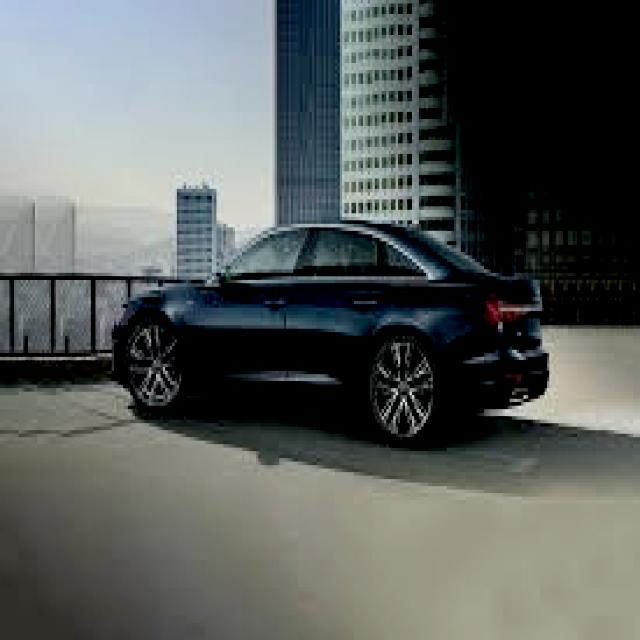blue: (118, 222, 560, 468)
